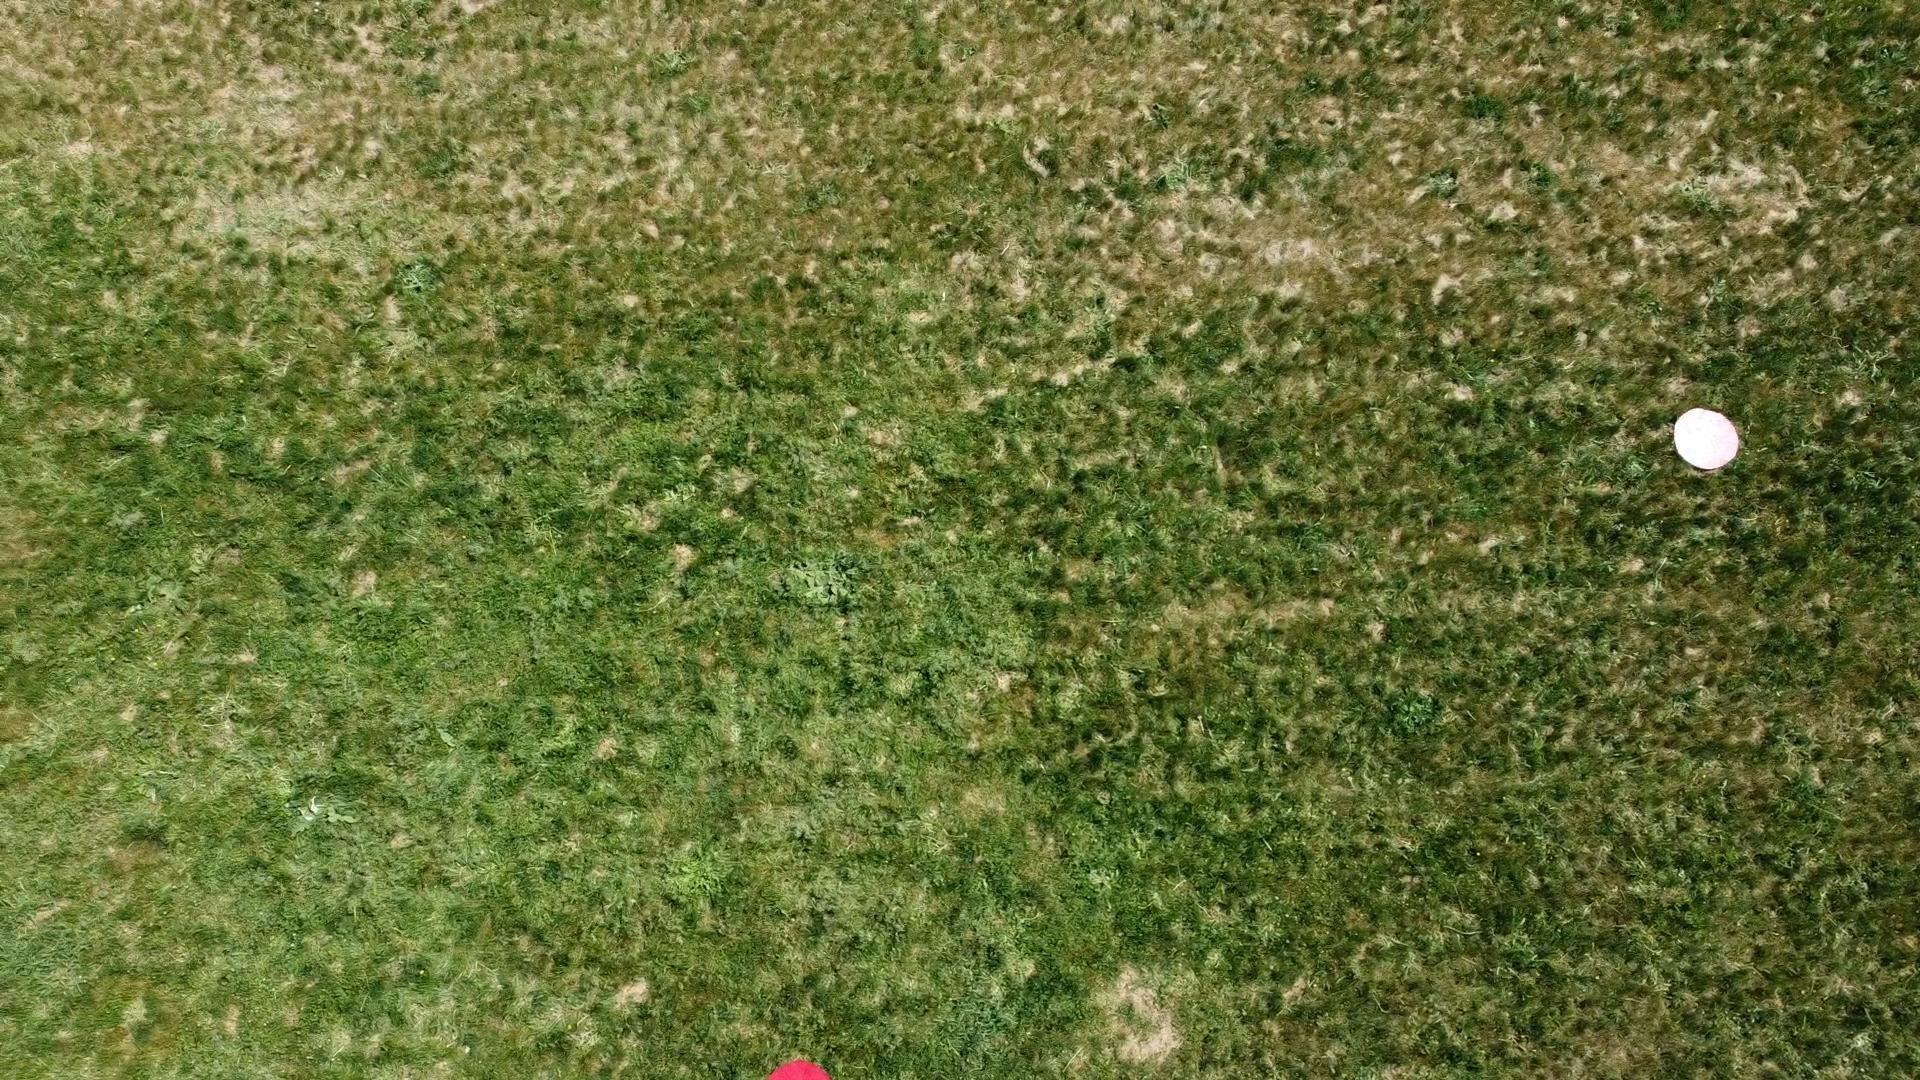Red: (1668, 405, 1745, 473), (761, 1056, 837, 1080)
